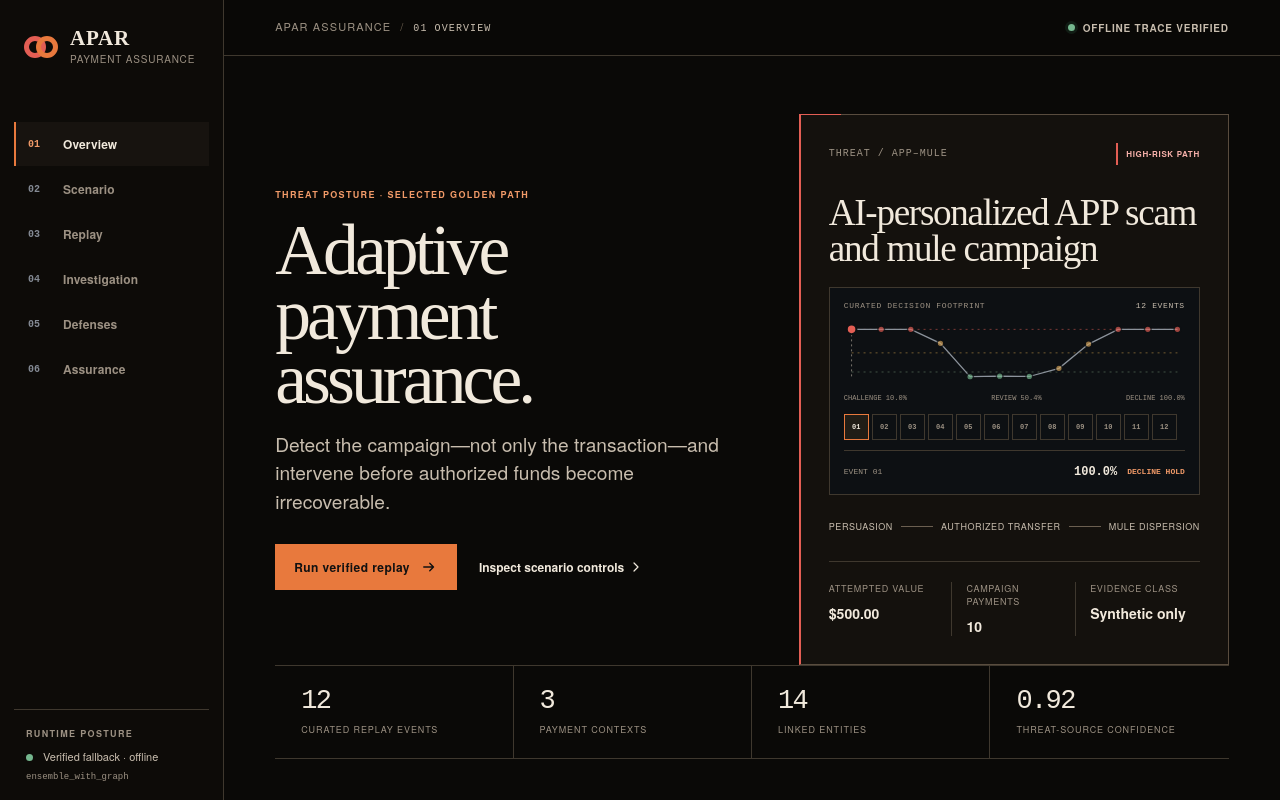
Test: native route boundary › moves through the replay and restores the canonical first event
Click the link "03 Replay" at (65, 234), box [28,225,103,243]
(page scrolled)
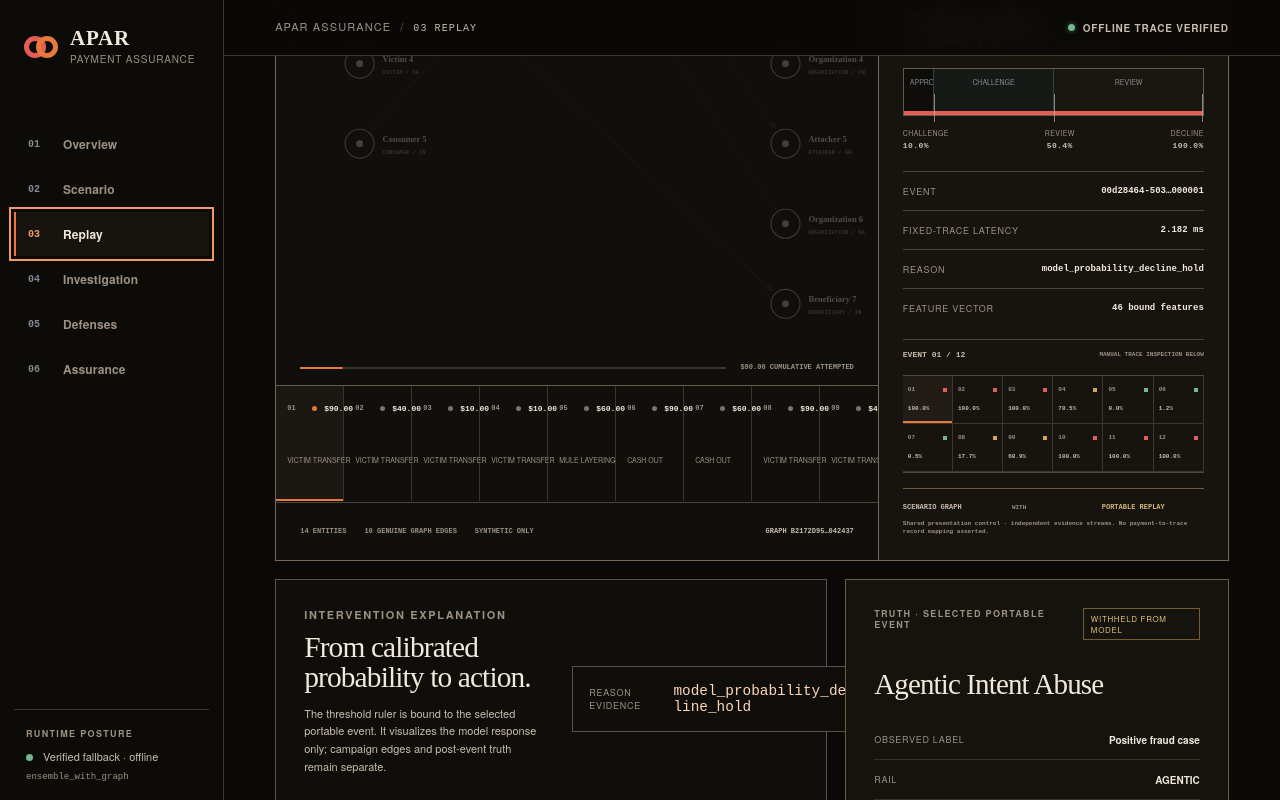
expect the text "Event 01 / 12" is shown: met, box [903,351,965,359]
expect the picture named "Calibrated risk 100.0% with final action Decline Hold. Bound" is shown: met, box [903,8,1204,150]
expect the text "no payment-to-trace record mapping asserted" is shown: met, box [903,520,1187,535]
Click the button "02 100.0%" at (978, 400), box [953,376,1003,424]
(page scrolled)
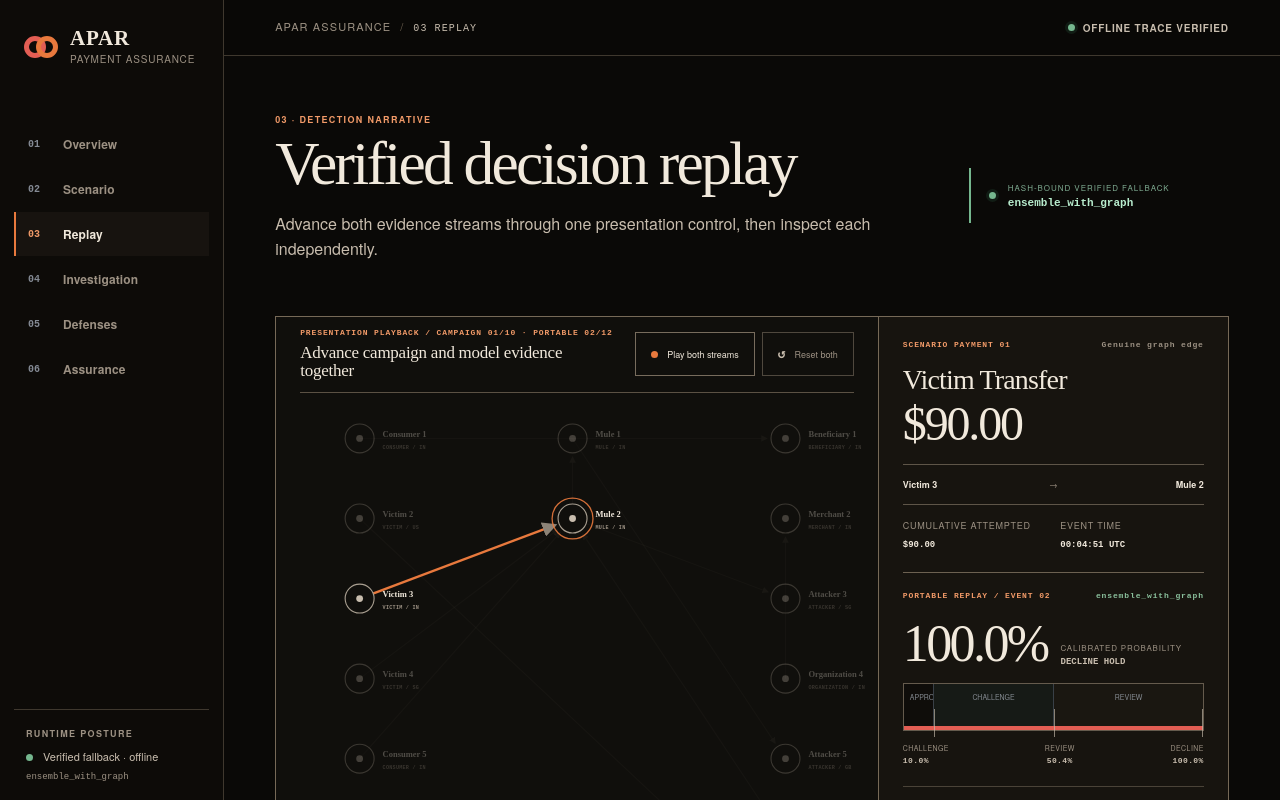
Click the button with aria-label "reset both streams" at (808, 354), box [762,332,854,376]
(page scrolled)
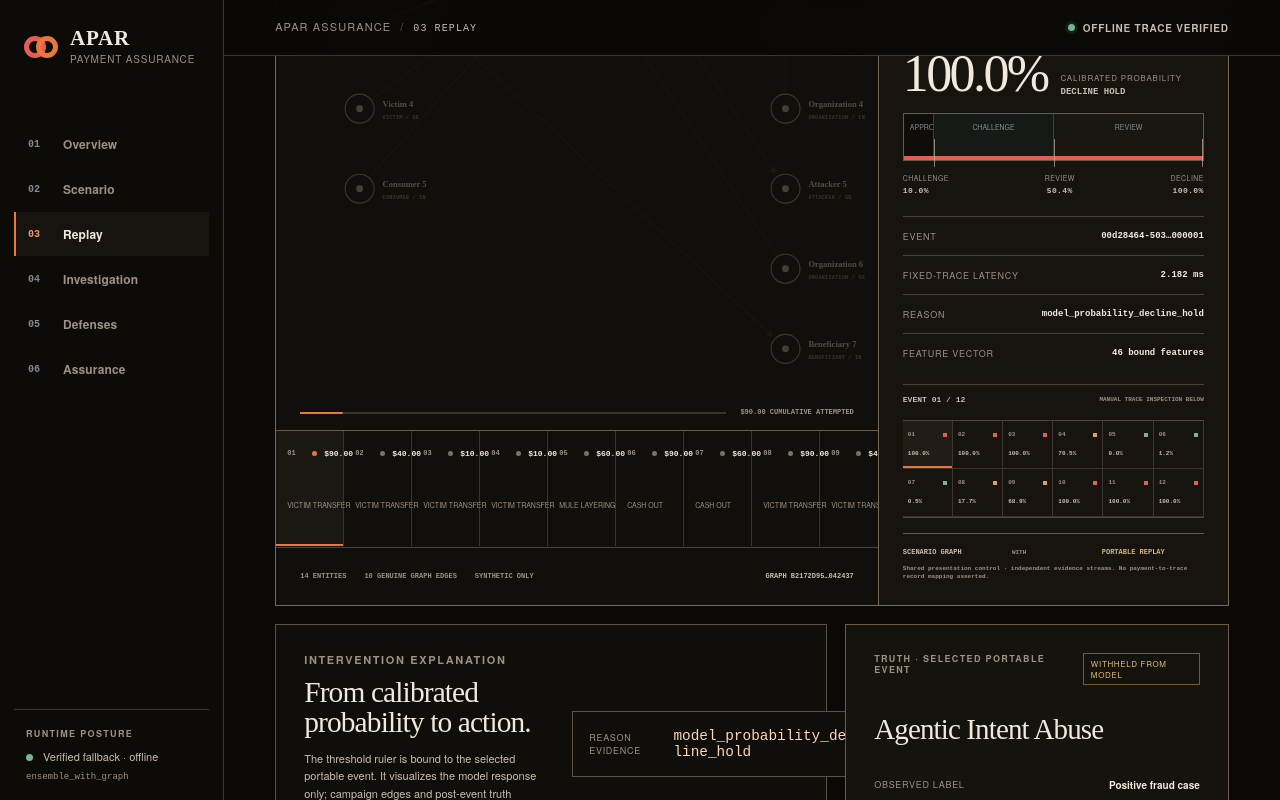
expect the text "Event 01 / 12" is shown: met, box [903,396,965,404]
